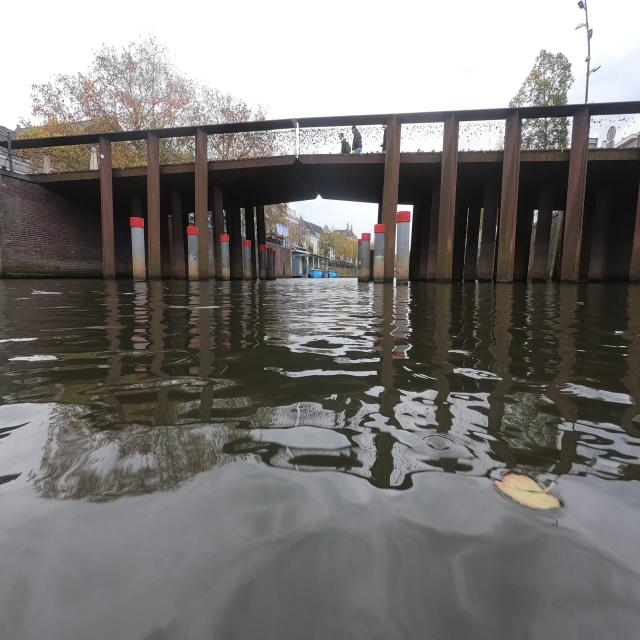sky: (14, 8, 586, 130), (586, 2, 638, 102)
wall: (2, 148, 100, 278)
water: (8, 280, 636, 636)
